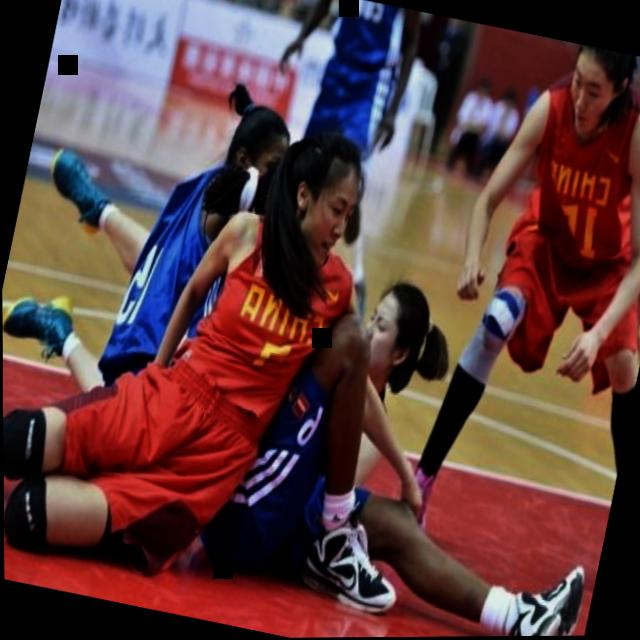Fall-Detected: (159, 218, 640, 639)
